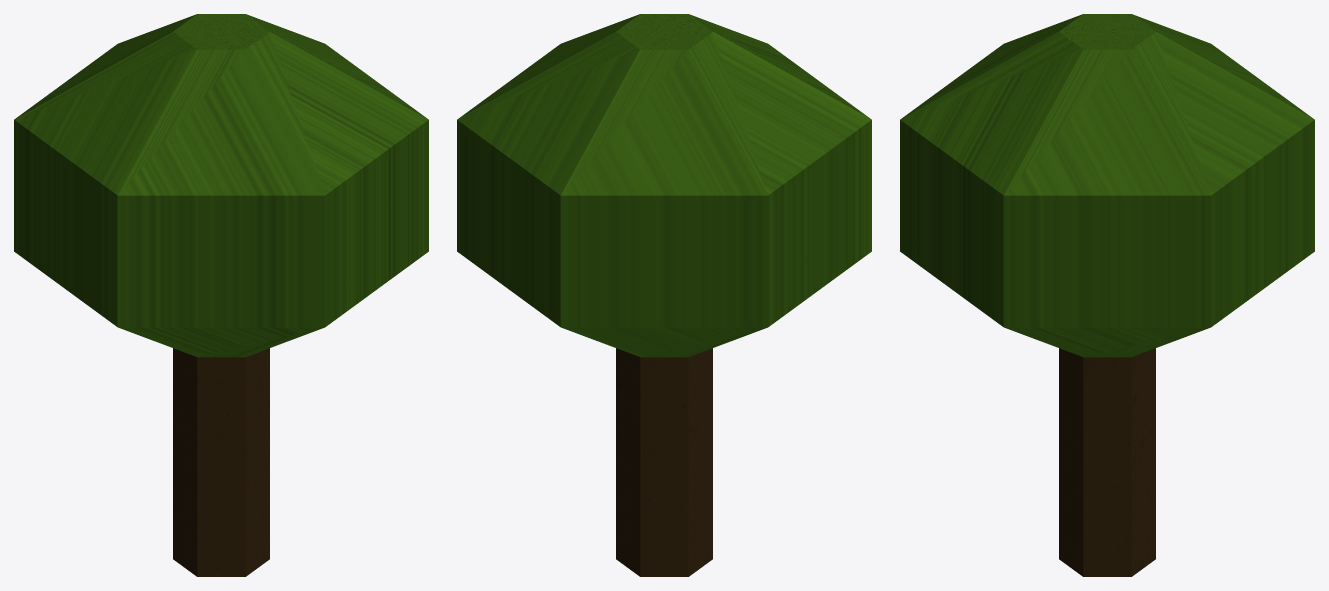
Rendered from oak_tree.obj.
3 views of the same model, side by side, from view 1: azimuth 30°, elevation 25°; view 2: azimuth 150°, elevation 25°; view 3: azimuth 270°, elevation 25° (orthographic).
Parts seen in each view (by area): view 1: oak_tree; view 2: oak_tree; view 3: oak_tree.
Part boxes in pixels (box(x1,y1,x2,y2)): oak_tree: box(14, 14, 428, 576); oak_tree: box(457, 14, 871, 576); oak_tree: box(900, 14, 1314, 576).
Size of the model in its own units: 5.46 by 8.84 by 6.3.
